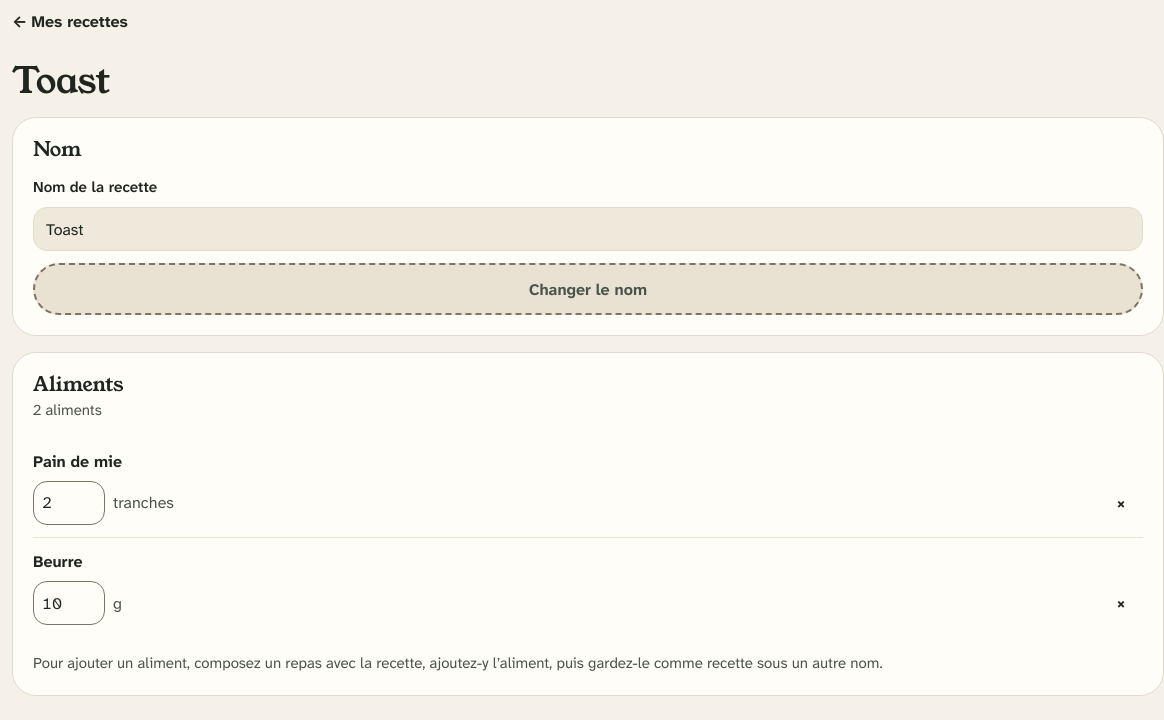
Test: RecipeDetailView › retire un ingrédient, et bloque le dernier
This screenshot has width=1164, height=720.
Click the button "×" in the row of "tranches" at (1121, 503), box [1099,481,1143,525]
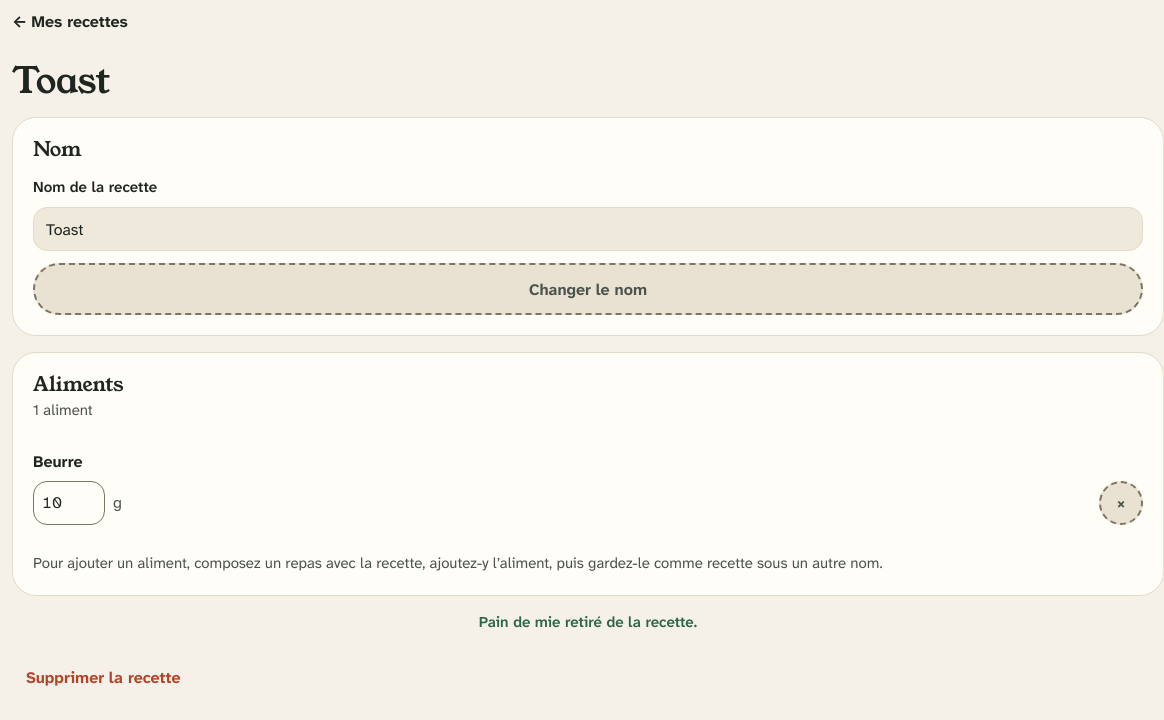
Expected: the number of list items with class "recipe__line" is 1, [33,438,1143,537]
Expected: the message with class "recipe__feedback" reads "Pain de mie retiré de la recette.", [479,612,697,632]
